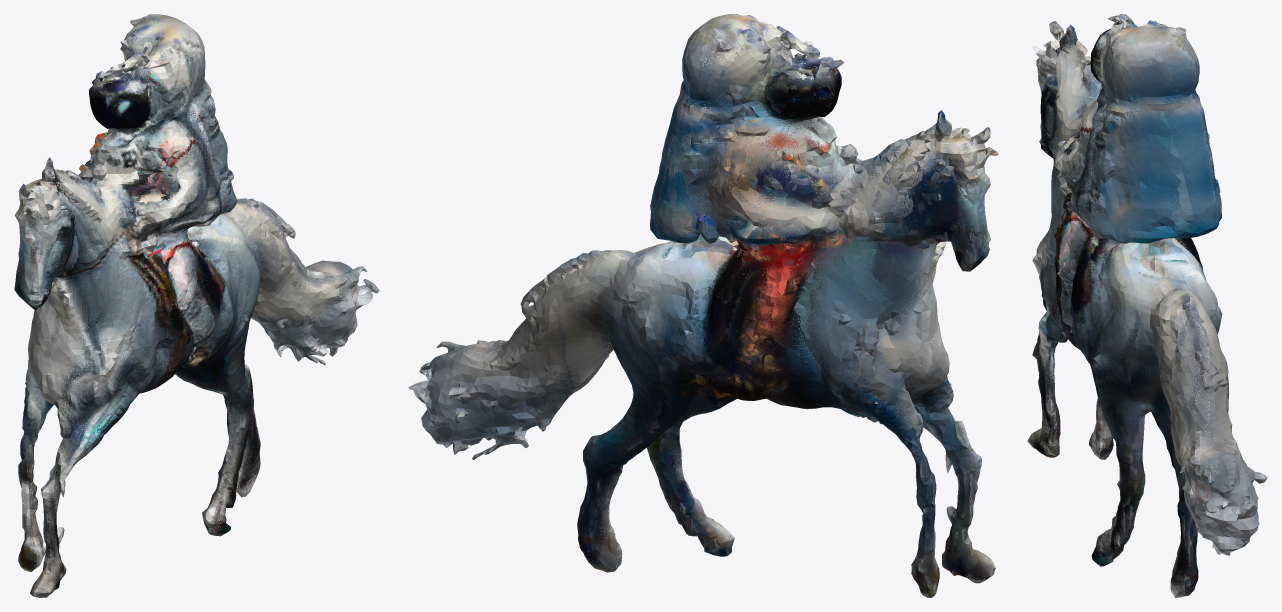
File: astronaut_001.glb
The picture shows the model from 3 angles, left to right: view 1: azimuth 30°, elevation 25°; view 2: azimuth 150°, elevation 25°; view 3: azimuth 270°, elevation 25°; orthographic projection. The views are drawn at different scales.
Bounding box in the file's own units: 1.23 × 1.36 × 0.5679.
Materials: 1 (1 with a texture image).
